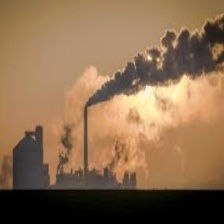smoke: (86, 10, 224, 105), (102, 133, 142, 173), (58, 124, 70, 175)
